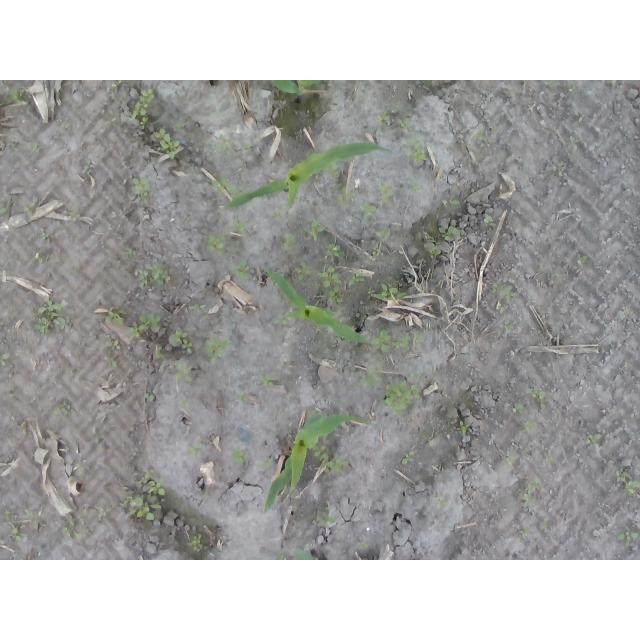Maize: (227, 141, 394, 213), (265, 413, 376, 512), (261, 264, 376, 343), (271, 80, 322, 104), (292, 548, 317, 561)
Weeds: (379, 380, 421, 416), (121, 491, 162, 522), (63, 506, 98, 542), (33, 299, 66, 334), (130, 87, 155, 129), (134, 469, 167, 496), (155, 128, 180, 161), (129, 313, 160, 339), (138, 263, 171, 287), (402, 133, 427, 163), (368, 284, 408, 301), (359, 362, 385, 388), (615, 466, 640, 493), (227, 257, 254, 282), (205, 336, 229, 364), (525, 384, 551, 409), (206, 134, 234, 156), (206, 232, 229, 258), (523, 479, 541, 509), (171, 330, 193, 354), (325, 452, 350, 473), (319, 266, 342, 288), (490, 282, 518, 300), (211, 176, 236, 196), (4, 86, 29, 106), (132, 177, 150, 204), (306, 220, 327, 241), (377, 180, 396, 203), (373, 329, 392, 352), (316, 506, 337, 525), (618, 528, 639, 547), (50, 399, 71, 417), (174, 363, 193, 382), (439, 225, 461, 241), (233, 448, 252, 466), (338, 187, 355, 207), (366, 243, 381, 265), (359, 201, 377, 219), (19, 199, 37, 217), (105, 308, 124, 325), (296, 261, 313, 279), (392, 334, 411, 350), (311, 444, 330, 459), (327, 243, 346, 257), (0, 199, 12, 221), (433, 494, 449, 510), (586, 434, 603, 449), (187, 534, 202, 551), (31, 253, 53, 264), (348, 271, 365, 285), (230, 218, 247, 232), (376, 229, 392, 243), (231, 182, 245, 198), (274, 311, 290, 325), (520, 422, 537, 435), (330, 287, 343, 304), (93, 431, 103, 453), (187, 443, 201, 458), (9, 527, 23, 542), (284, 234, 297, 250), (552, 161, 565, 176), (473, 129, 488, 142), (377, 111, 390, 126), (325, 164, 340, 177), (240, 141, 253, 156), (260, 374, 275, 387), (105, 338, 121, 350), (457, 422, 471, 435), (429, 247, 443, 260), (397, 117, 412, 129), (402, 452, 415, 465), (576, 254, 589, 267), (68, 210, 81, 223), (17, 422, 28, 437), (507, 453, 518, 467), (511, 405, 525, 416), (155, 346, 166, 360), (569, 135, 579, 150), (542, 80, 560, 88), (504, 321, 514, 335), (259, 457, 273, 467), (81, 159, 91, 173), (442, 199, 461, 206), (520, 526, 531, 538), (484, 214, 495, 226), (410, 370, 423, 380), (0, 352, 10, 365), (177, 398, 191, 407), (123, 248, 138, 256), (106, 357, 118, 367), (424, 234, 437, 243), (189, 304, 205, 311), (413, 333, 424, 343), (569, 82, 577, 95), (144, 393, 157, 401), (497, 303, 508, 312), (357, 542, 370, 549), (541, 518, 548, 531), (24, 509, 34, 518), (272, 210, 281, 220), (277, 552, 288, 560), (111, 81, 123, 88), (412, 182, 421, 191), (30, 142, 39, 151), (107, 117, 118, 124), (556, 270, 565, 278), (60, 124, 68, 133), (176, 123, 188, 129), (237, 393, 245, 402), (546, 457, 554, 465), (538, 262, 545, 271), (622, 306, 631, 313), (623, 361, 633, 367), (77, 464, 84, 472), (41, 232, 48, 240), (202, 492, 208, 499), (305, 151, 312, 157)
